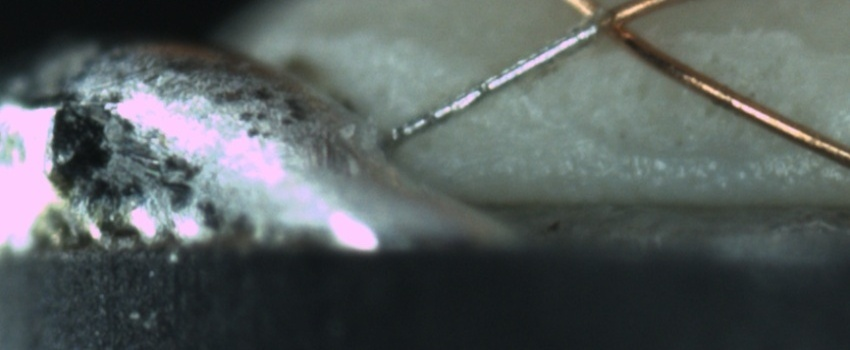CL: (561, 4, 650, 52)
DL: (649, 14, 825, 61)
TS: (380, 19, 599, 148)
